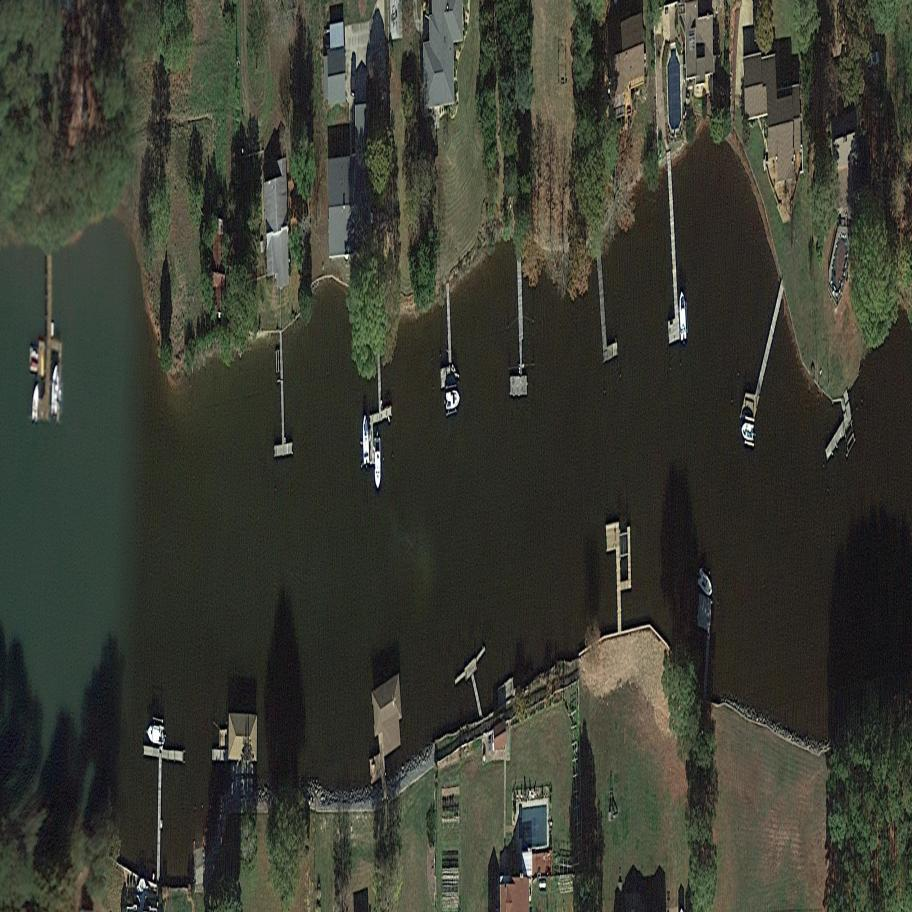ship: (690, 566, 722, 606), (49, 360, 61, 419), (30, 381, 41, 428), (678, 289, 687, 344), (362, 412, 370, 469), (146, 722, 164, 747), (740, 419, 755, 444), (374, 439, 381, 492), (446, 388, 459, 414)
